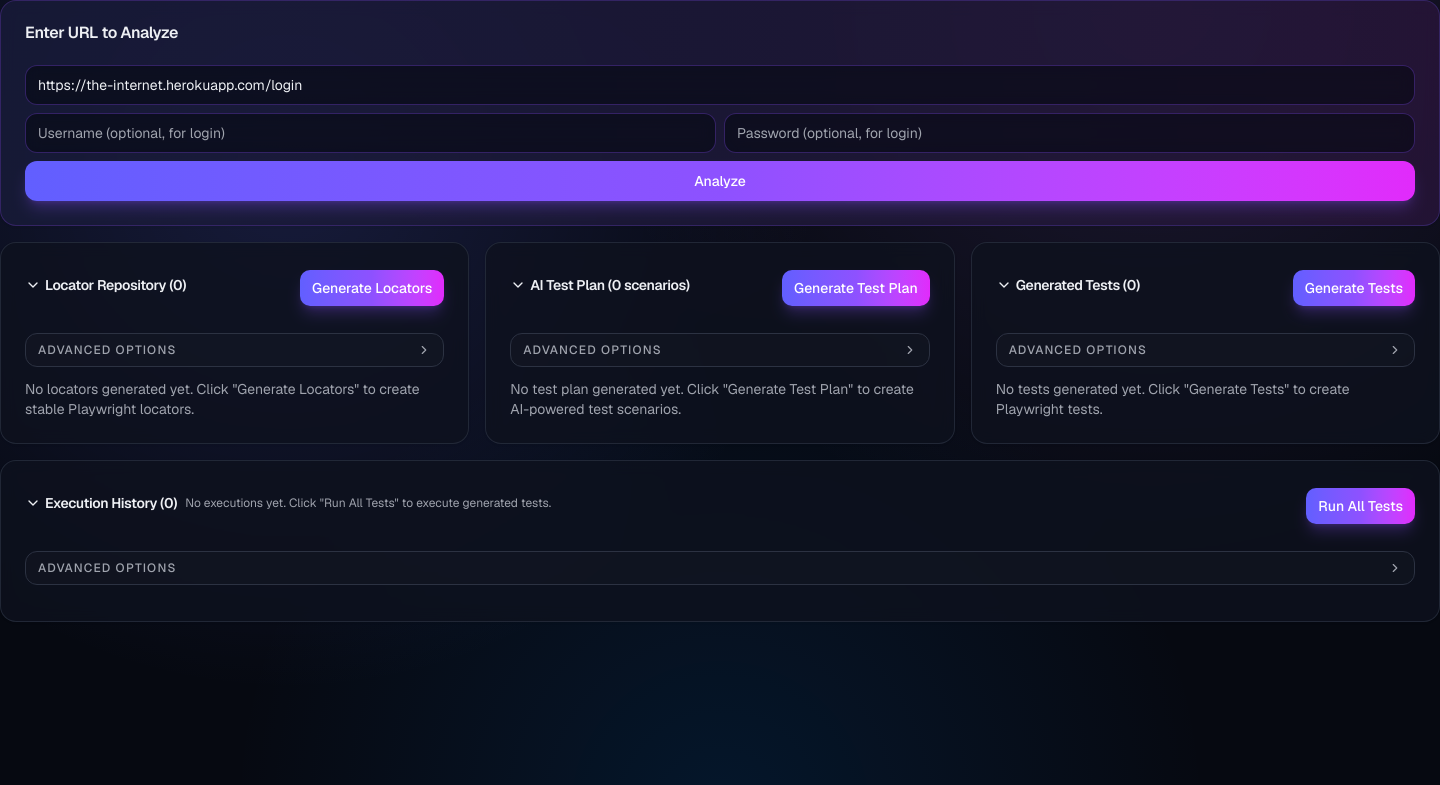
QaWorkflow › shows the screenshot path rather than a permanently blank preview
This screenshot has width=1440, height=785.
Click the button "Analyze": (720, 181) [25,161,1415,201]
(page scrolled)
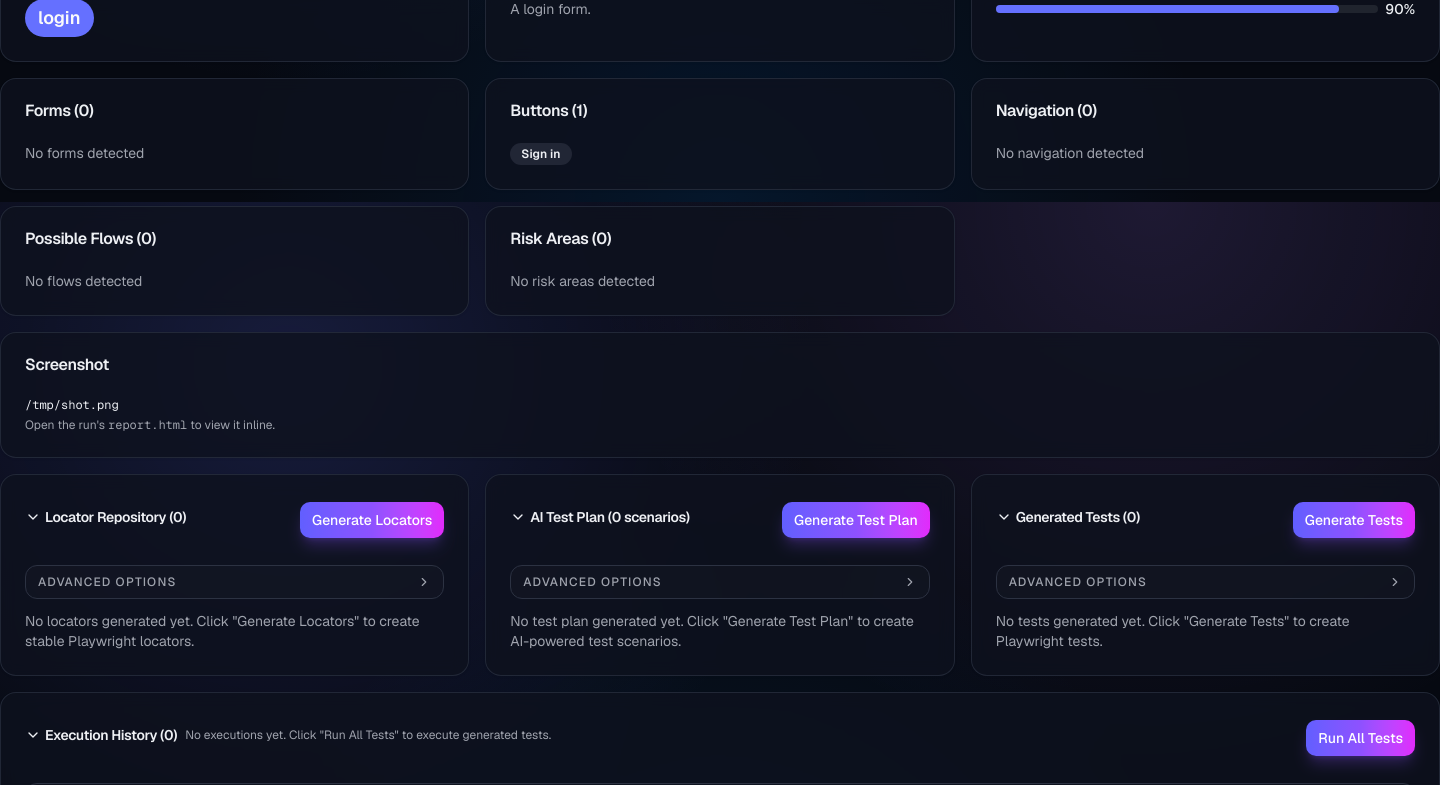
Now the text "/tmp/shot.png" is shown, box [25,397,119,413]
